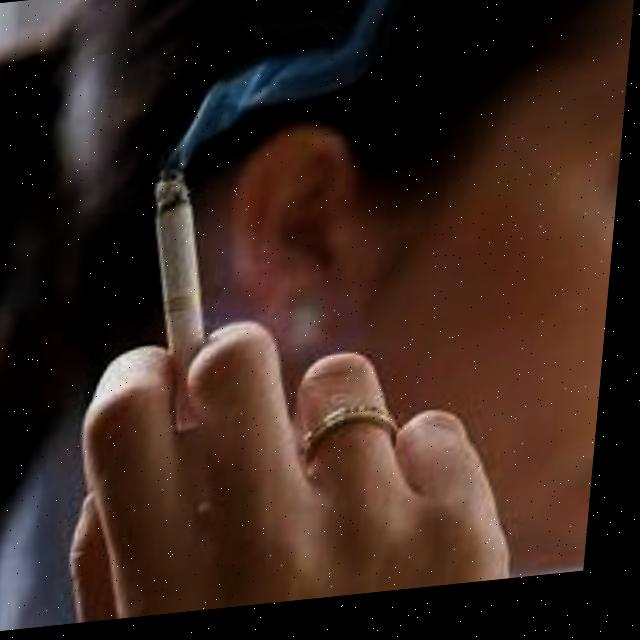cigarette: (141, 167, 226, 441)
